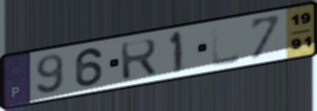1: (166, 29, 187, 76)
6: (73, 47, 106, 89)
7: (249, 12, 284, 61)
9: (34, 52, 66, 97)
L: (209, 23, 243, 69)
R: (118, 37, 159, 82)
